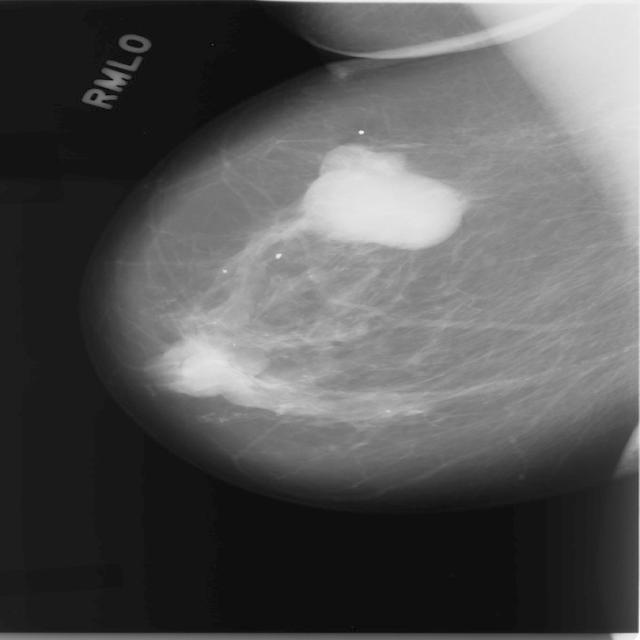tumour: (291, 145, 462, 249)
